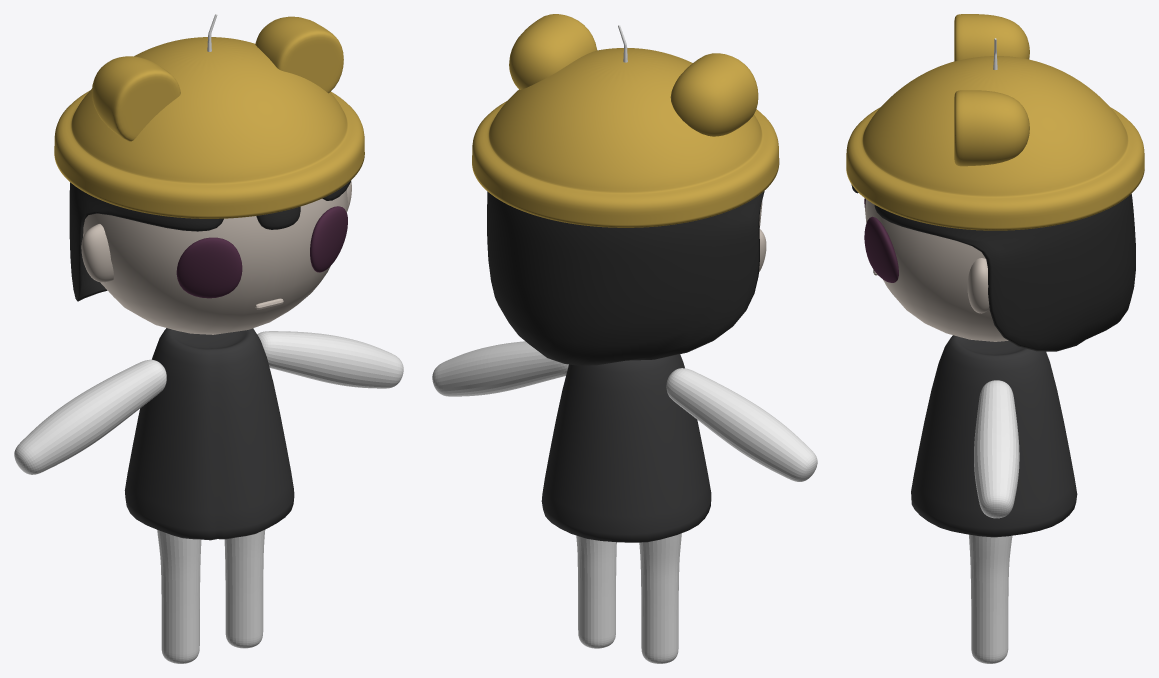
The model's file is personagem2.fbx.
The picture shows the model from 3 angles, left to right: view 1: azimuth 30°, elevation 25°; view 2: azimuth 150°, elevation 25°; view 3: azimuth 270°, elevation 25°; orthographic projection. The views are drawn at different scales.
Parts seen in each view (by area): view 1: Sphere.001, Cylinder.003, Cube.005, Vert.004, Cube.006, Vert.005, Cube.004, Sphere, Cube.003; view 2: Sphere.001, Sphere, Cylinder.003, Vert.004, Cube.006, Vert.005; view 3: Sphere.001, Cylinder.003, Sphere, Cube.005, Cube.006, Vert.004, Vert.005, Cube.004, Cube.003.
Boxes of the visible parts, bbox=[...] form: Sphere.001: bbox=[54, 37, 364, 218]; Cylinder.003: bbox=[124, 328, 294, 540]; Cube.005: bbox=[83, 190, 347, 334]; Vert.004: bbox=[14, 331, 403, 474]; Cube.006: bbox=[91, 16, 343, 141]; Vert.005: bbox=[157, 530, 265, 663]; Cube.004: bbox=[176, 206, 347, 298]; Sphere: bbox=[69, 181, 350, 301]; Cube.003: bbox=[81, 181, 351, 282]; Sphere.001: bbox=[472, 48, 779, 227]; Sphere: bbox=[487, 191, 764, 365]; Cylinder.003: bbox=[541, 354, 711, 542]; Vert.004: bbox=[432, 341, 817, 481]; Cube.006: bbox=[509, 14, 758, 136]; Vert.005: bbox=[576, 533, 681, 663]; Sphere.001: bbox=[846, 56, 1144, 230]; Cylinder.003: bbox=[911, 335, 1077, 537]; Sphere: bbox=[851, 184, 1135, 351]; Cube.005: bbox=[865, 199, 1008, 341]; Cube.006: bbox=[954, 14, 1029, 166]; Vert.004: bbox=[974, 380, 1019, 518]; Vert.005: bbox=[969, 534, 1012, 663]; Cube.004: bbox=[864, 198, 898, 282]; Cube.003: bbox=[967, 258, 989, 313].
Bounding box in the file's own units: 100 × 159 × 70.49.
